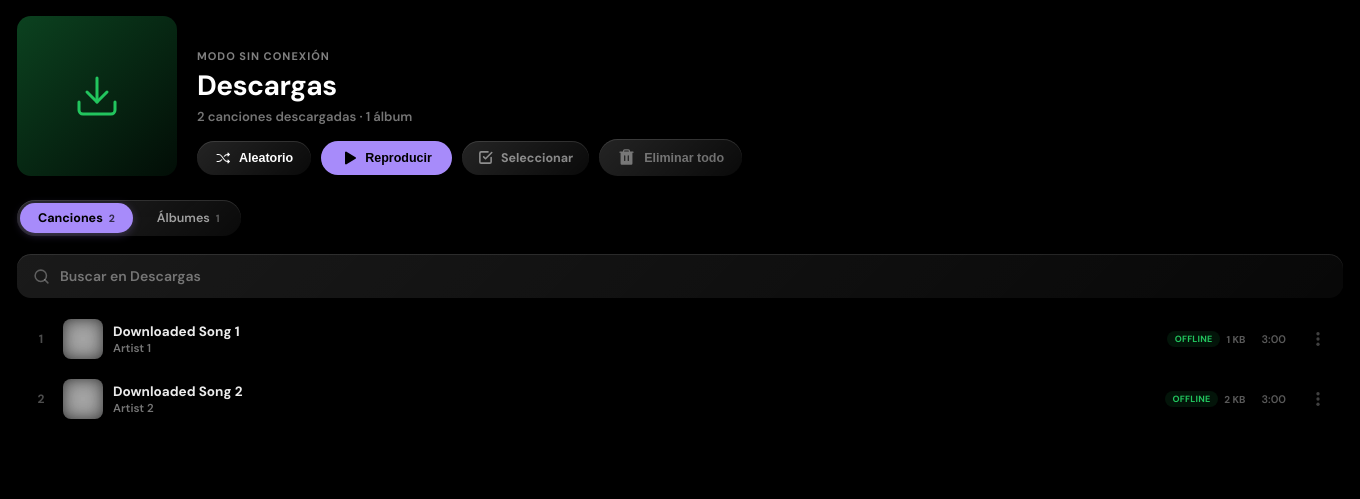
Test: DownloadsView › should group downloads into album cards
Click the tab "Álbumes 1" at (188, 218), box 139,203 -> 238,233
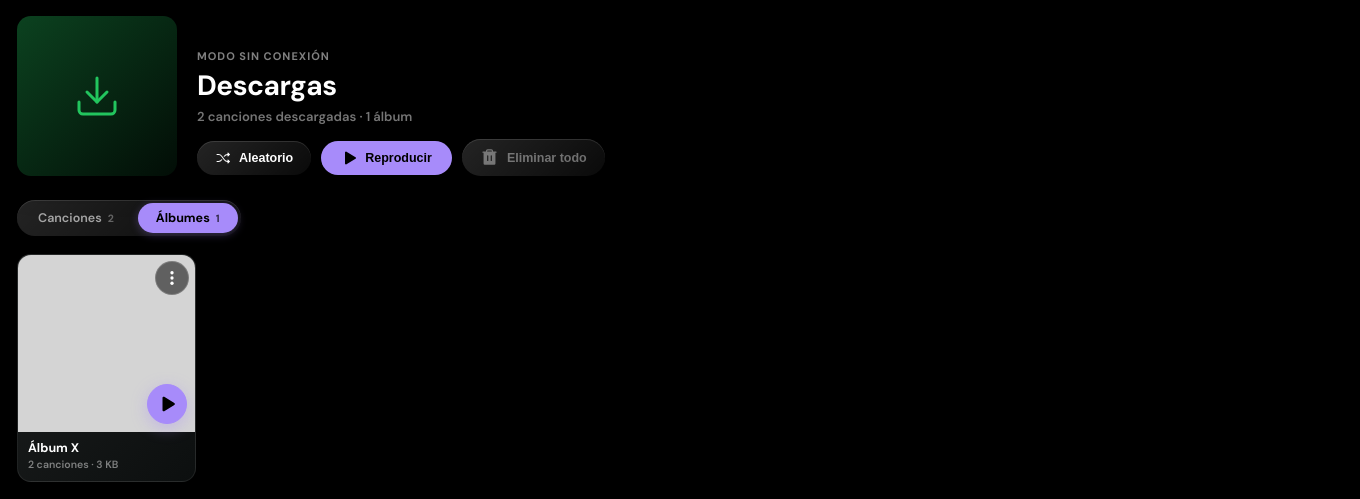
Now the text "Álbum X" is shown, box 28,440 -> 79,456
Now the text "2 canciones · 3 KB" is shown, box 28,458 -> 118,471
